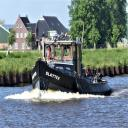tugboat: (31, 31, 114, 101)
